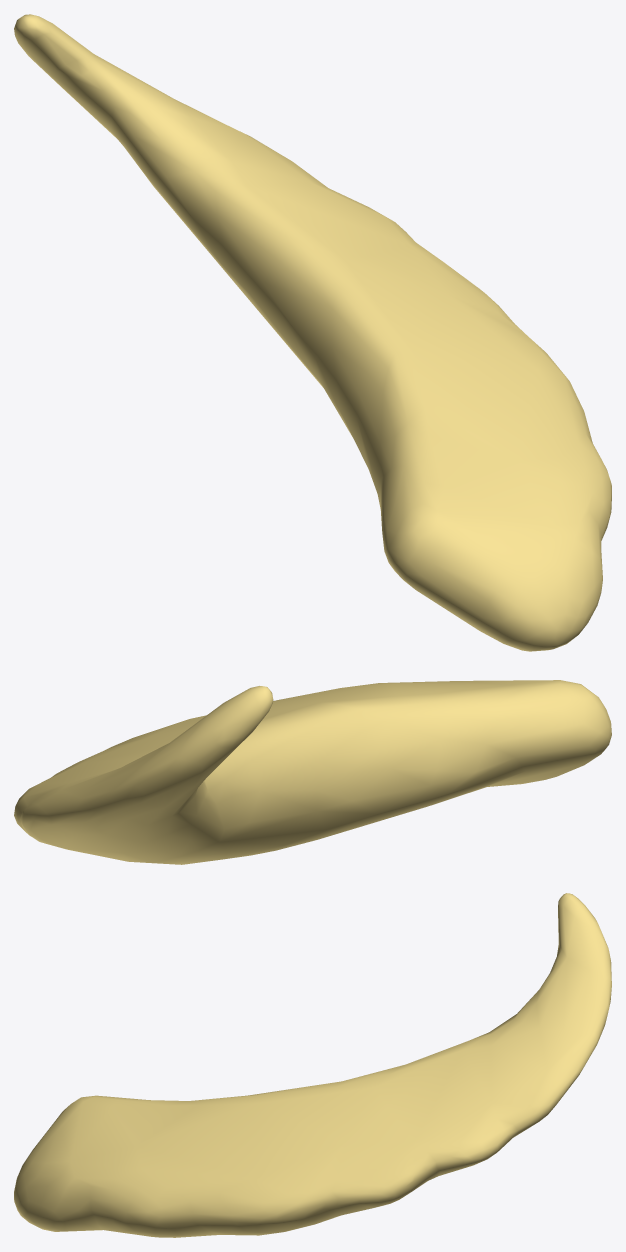
3 renders of one model, top to bottom at view 1: azimuth 30°, elevation 25°; view 2: azimuth 150°, elevation 25°; view 3: azimuth 270°, elevation 25°, orthographic. The views are drawn at different scales.
Visible parts, largest first — view 1: ZA_0dd6c3900f4334c1; view 2: ZA_0dd6c3900f4334c1; view 3: ZA_0dd6c3900f4334c1.
Part boxes in pixels (<box>): ZA_0dd6c3900f4334c1: <box>14,14,611,651</box>; ZA_0dd6c3900f4334c1: <box>14,680,611,864</box>; ZA_0dd6c3900f4334c1: <box>14,893,611,1237</box>.
Size of the model in its own units: 0.0194 by 0.0213 by 0.0416.
